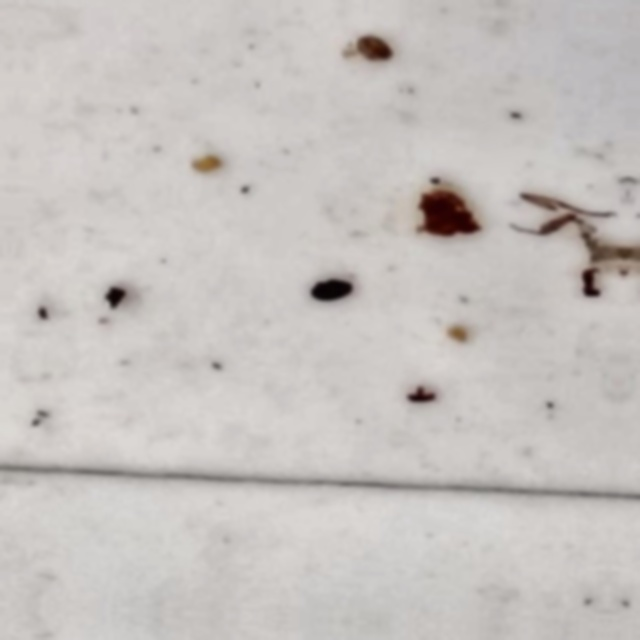varroa: (307, 278, 354, 306)
